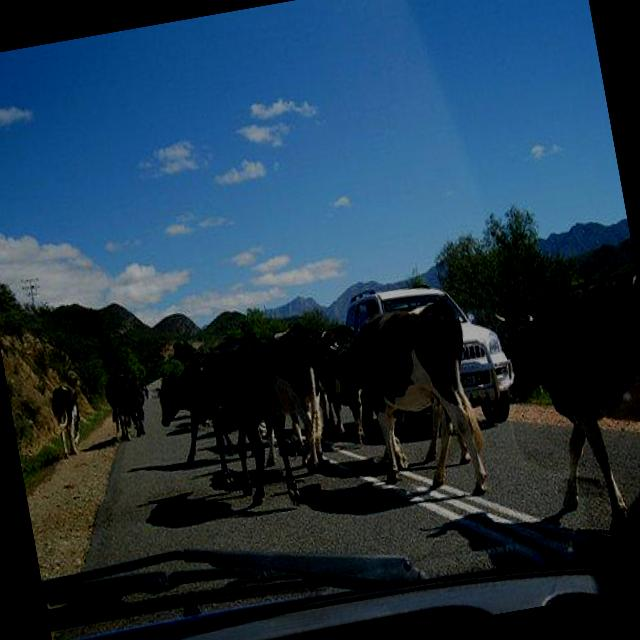Vehicle: (340, 268, 522, 447)
